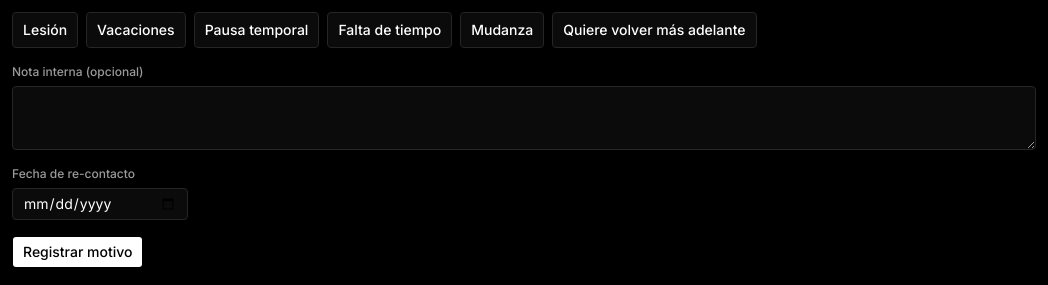
InactivityReasonForm › disables the submit button while the request is pending
The image size is (1048, 285).
Step 1. Click the button "Lesión" → (45, 30), box [12,12,78,48]
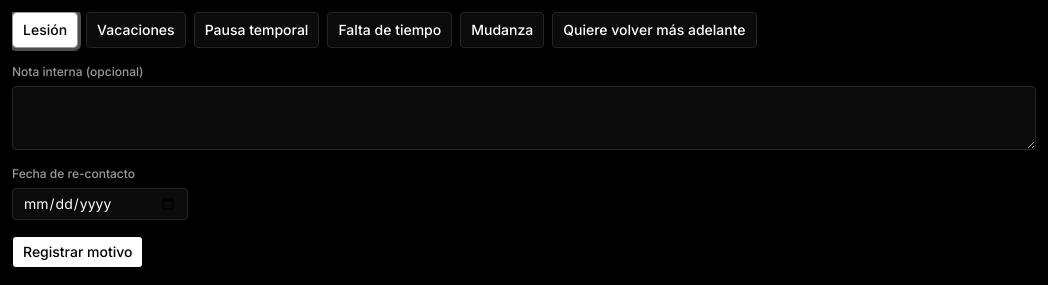
Step 2. Click the button "Registrar motivo" → (78, 252), box [12,236,144,268]
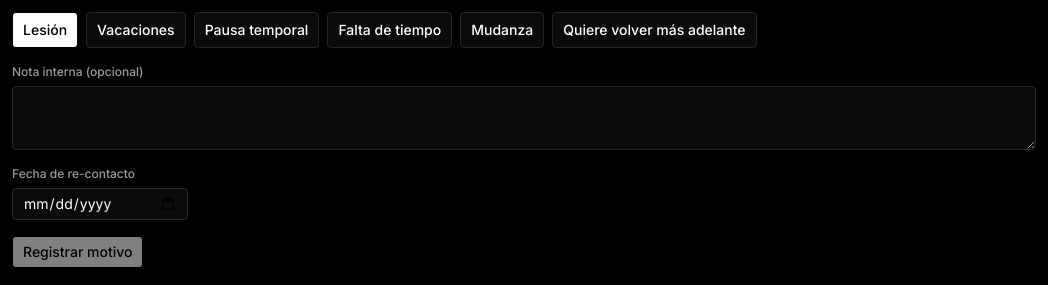
Now the button "Registrar motivo" is disabled
Step 3. Click the button "Registrar motivo" → (78, 252), box [12,236,144,268]
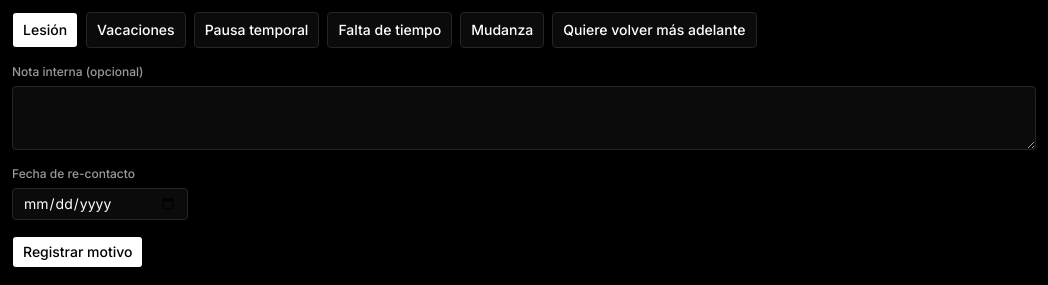
Now the button "Registrar motivo" is enabled, box [12,236,144,268]
